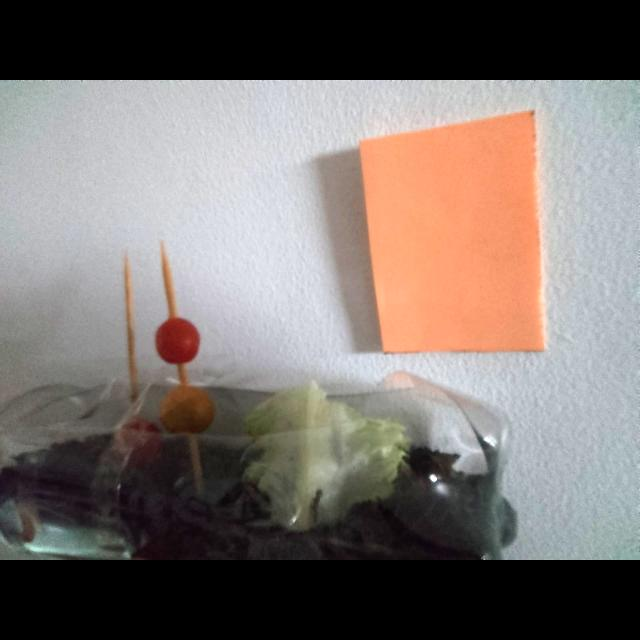card: (360, 111, 544, 353)
fruit_maturation: (159, 385, 215, 434), (115, 417, 161, 465)
fully_grown: (155, 317, 200, 365)
